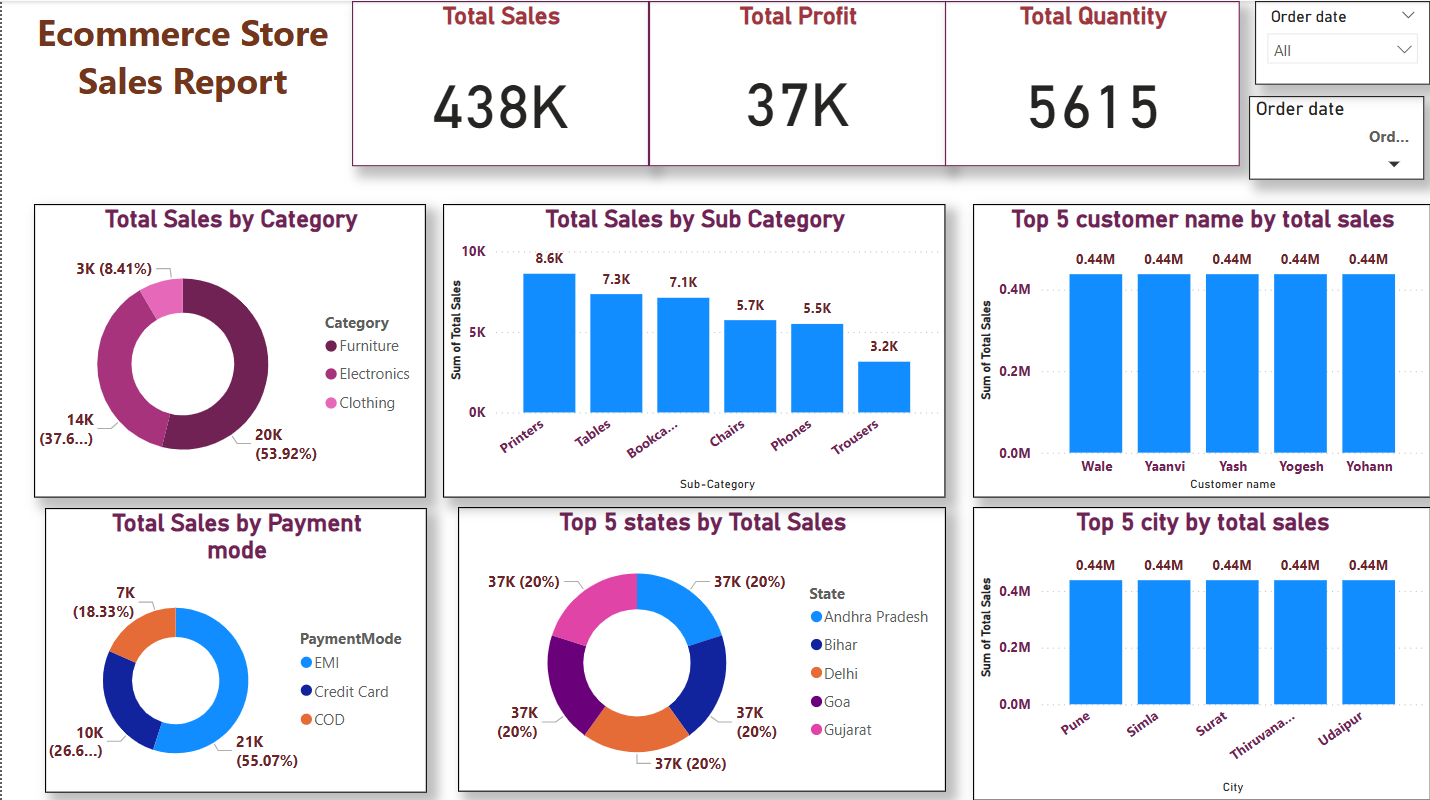

Layout of this report page (visuals, bound fields, positions):
{"tool":"powerbi","page":{"name":"Page 1","canvas":[1280,720],"ordinal":0},"visuals":[{"type":"textbox","box":[9.5,0,303.8,98.6],"z":0},{"type":"card","title":"Total Sales","fields":{"Values":["Sum(Ecommerce Store report (2).Total Sales)"]},"box":[313.4,0,265.6,147.9],"z":1000},{"type":"card","title":"Total Profit","fields":{"Values":["Sum(Ecommerce Store report (2).Profit)"]},"box":[579,0,265.6,147.9],"z":2000},{"type":"card","title":"Total Quantity","fields":{"Values":["Sum(Ecommerce Store report (2).Quantity)"]},"box":[844.6,0,264,147.9],"z":3000},{"type":"donutChart","fields":{"Category":["Ecommerce Store report.Order date"]},"box":[1116.6,84.8,157.5,74.8],"z":4000},{"type":"slicer","fields":{"Values":["Ecommerce Store report.Order date"]},"box":[1122.5,0,157.5,74.8],"z":5000},{"type":"donutChart","title":"Total Sales by Category","fields":{"Category":["Ecommerce Store report (2).Category"],"Y":["Sum(Ecommerce Store report (2).Total Sales)"]},"box":[28.3,181.4,351.5,262.7],"z":6000},{"type":"donutChart","title":"Top 5 states by Total Sales","fields":{"Y":["Sum(Ecommerce Store report (2).Total Sales)"],"Category":["Ecommerce Store report.State"]},"box":[408.2,453.5,436.5,255.1],"z":7000},{"type":"columnChart","title":"Total Sales by Sub Category","fields":{"Y":["Sum(Ecommerce Store report (2).Total Sales)"],"Category":["Ecommerce Store report (2).Sub-Category"]},"box":[395,181.4,449.8,262.7],"z":8000},{"type":"donutChart","title":"Total Sales by Payment mode","fields":{"Y":["Sum(Ecommerce Store report (2).Total Sales)"],"Category":["Ecommerce Store report (2).PaymentMode"]},"box":[38.3,454.1,342,255.1],"z":9000},{"type":"columnChart","title":"Top 5 customer name by total sales","fields":{"Y":["Sum(Ecommerce Store report (2).Total Sales)"],"Category":["Ecommerce Store report.Customer name"]},"box":[869.3,181.4,410.1,262.7],"z":10000},{"type":"columnChart","title":"Top 5 city by total sales","fields":{"Y":["Sum(Ecommerce Store report (2).Total Sales)"],"Category":["Ecommerce Store report.City"]},"box":[869.3,453.5,410.1,262.7],"z":11000}]}

Visuals, with their boxes in screenshot pixels (x1, y1, x2, y2), scaled from the page's 1280x720 canvas onto the 1430x800 screenshot:
textbox: <region>11, 0, 350, 110</region>
"Total Sales" card: <region>350, 0, 647, 164</region>
"Total Profit" card: <region>647, 0, 944, 164</region>
"Total Quantity" card: <region>944, 0, 1239, 164</region>
donutChart - Ecommerce Store report.Order date: <region>1247, 94, 1423, 177</region>
slicer - Ecommerce Store report.Order date: <region>1254, 0, 1429, 83</region>
"Total Sales by Category" donutChart: <region>32, 202, 424, 493</region>
"Top 5 states by Total Sales" donutChart: <region>456, 504, 944, 787</region>
"Total Sales by Sub Category" columnChart: <region>441, 202, 944, 493</region>
"Total Sales by Payment mode" donutChart: <region>43, 505, 425, 788</region>
"Top 5 customer name by total sales" columnChart: <region>971, 202, 1429, 493</region>
"Top 5 city by total sales" columnChart: <region>971, 504, 1429, 796</region>
